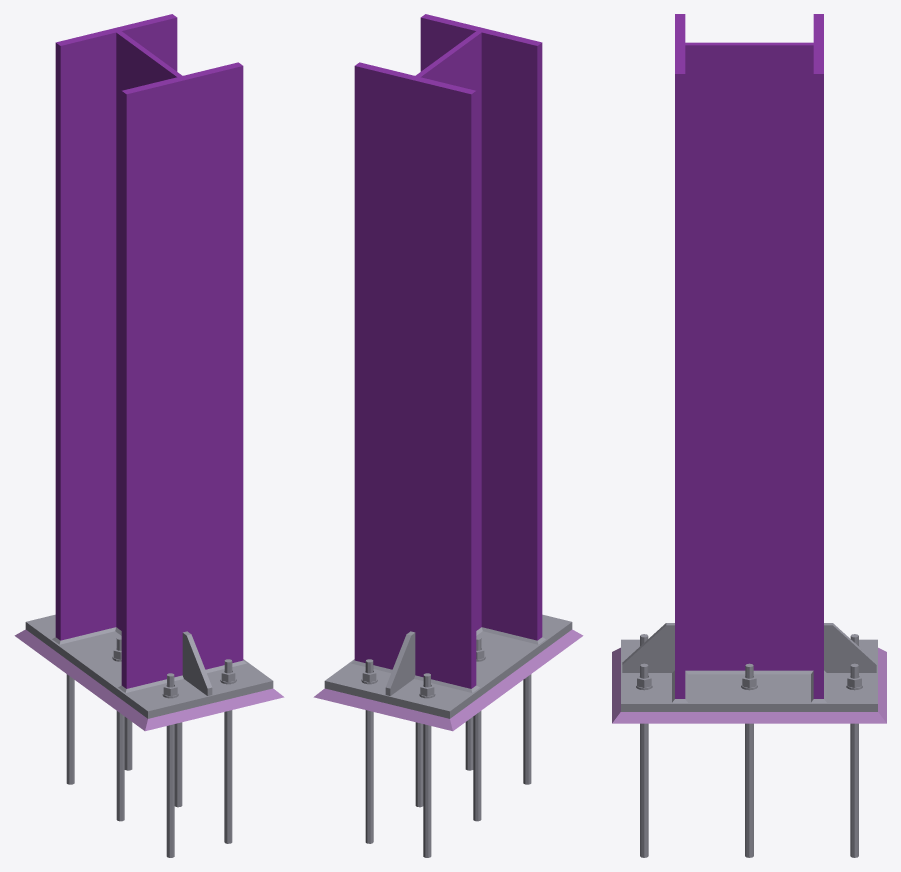
File: Base Plate GLB.glb
3 views of the same model, side by side, from view 1: azimuth 30°, elevation 25°; view 2: azimuth 150°, elevation 25°; view 3: azimuth 270°, elevation 25° (orthographic). The views are drawn at different scales.
Visible parts, largest first — view 1: FamilyInstance Specialty Equipment ASTM F3125 Gr A325N <1240, FamilyInstance Structural Framing PLATE 85 <1241807 PLATE 85, FamilyInstance Generic Models PourObject <1240490 PourObject, FamilyInstance Columns NUT 325 <1240785 NUT 325<, FamilyInstance Columns NUT <1240559 NUT<, FamilyInstance Columns NUT 393 <1241005 NUT 393<, FamilyInstance Structural Framing STIFFENER 214 <1241801 STI, FamilyInstance Columns NUT 354 <1240895 NUT 354<, FamilyInstance Columns NUT 296 <1240675 NUT 296<; view 2: FamilyInstance Specialty Equipment ASTM F3125 Gr A325N <1240, FamilyInstance Structural Framing PLATE 85 <1241807 PLATE 85, FamilyInstance Generic Models PourObject <1240490 PourObject, FamilyInstance Columns WASHER <1241115 WASHER<, FamilyInstance Columns NUT 354 <1240895 NUT 354<, FamilyInstance Columns NUT 393 <1241005 NUT 393<, FamilyInstance Structural Framing STIFFENER 214 <1241806 STI, FamilyInstance Columns NUT <1240559 NUT<, FamilyInstance Columns NUT 296 <1240675 NUT 296<; view 3: FamilyInstance Specialty Equipment ASTM F3125 Gr A325N <1240, FamilyInstance Structural Framing PLATE 85 <1241807 PLATE 85, FamilyInstance Generic Models PourObject <1240490 PourObject, FamilyInstance Structural Framing STIFFENER 214 <1241801 STI, FamilyInstance Structural Framing STIFFENER 214 <1241806 STI, FamilyInstance Columns NUT 325 <1240785 NUT 325<, FamilyInstance Columns WASHER <1241115 WASHER<, FamilyInstance Columns NUT 296 <1240675 NUT 296<.
Boxes of the visible parts, x1=… form: FamilyInstance Specialty Equipment ASTM F3125 Gr A325N <1240: x1=52, y1=14, x2=246, y2=692; FamilyInstance Structural Framing PLATE 85 <1241807 PLATE 85: x1=25, y1=614, x2=273, y2=718; FamilyInstance Generic Models PourObject <1240490 PourObject: x1=14, y1=629, x2=284, y2=731; FamilyInstance Columns NUT 325 <1240785 NUT 325<: x1=220, y1=659, x2=236, y2=843; FamilyInstance Columns NUT <1240559 NUT<: x1=162, y1=673, x2=178, y2=857; FamilyInstance Columns NUT 393 <1241005 NUT 393<: x1=112, y1=636, x2=124, y2=821; FamilyInstance Structural Framing STIFFENER 214 <1241801 STI: x1=182, y1=631, x2=212, y2=695; FamilyInstance Columns NUT 354 <1240895 NUT 354<: x1=66, y1=674, x2=74, y2=784; FamilyInstance Columns NUT 296 <1240675 NUT 296<: x1=174, y1=722, x2=182, y2=807; FamilyInstance Specialty Equipment ASTM F3125 Gr A325N <1240: x1=351, y1=14, x2=545, y2=692; FamilyInstance Structural Framing PLATE 85 <1241807 PLATE 85: x1=324, y1=614, x2=572, y2=718; FamilyInstance Generic Models PourObject <1240490 PourObject: x1=313, y1=629, x2=583, y2=731; FamilyInstance Columns WASHER <1241115 WASHER<: x1=361, y1=659, x2=377, y2=843; FamilyInstance Columns NUT 354 <1240895 NUT 354<: x1=419, y1=673, x2=435, y2=857; FamilyInstance Columns NUT 393 <1241005 NUT 393<: x1=473, y1=636, x2=485, y2=821; FamilyInstance Structural Framing STIFFENER 214 <1241806 STI: x1=385, y1=631, x2=415, y2=695; FamilyInstance Columns NUT <1240559 NUT<: x1=523, y1=674, x2=531, y2=784; FamilyInstance Columns NUT 296 <1240675 NUT 296<: x1=415, y1=722, x2=423, y2=807; FamilyInstance Specialty Equipment ASTM F3125 Gr A325N <1240: x1=672, y1=14, x2=826, y2=702; FamilyInstance Structural Framing PLATE 85 <1241807 PLATE 85: x1=621, y1=639, x2=877, y2=711; FamilyInstance Generic Models PourObject <1240490 PourObject: x1=612, y1=647, x2=886, y2=723; FamilyInstance Structural Framing STIFFENER 214 <1241801 STI: x1=622, y1=623, x2=674, y2=672; FamilyInstance Structural Framing STIFFENER 214 <1241806 STI: x1=824, y1=623, x2=876, y2=672; FamilyInstance Columns NUT 325 <1240785 NUT 325<: x1=636, y1=663, x2=652, y2=857; FamilyInstance Columns WASHER <1241115 WASHER<: x1=846, y1=663, x2=862, y2=857; FamilyInstance Columns NUT 296 <1240675 NUT 296<: x1=741, y1=663, x2=757, y2=857.
Size of the model in its own units: 14.5 by 75.25 by 23.5.
